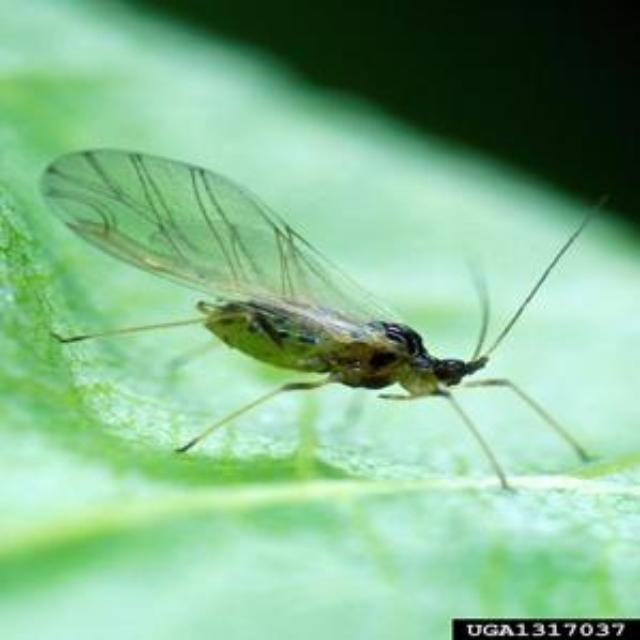Green peach aphid: (19, 129, 606, 543)
